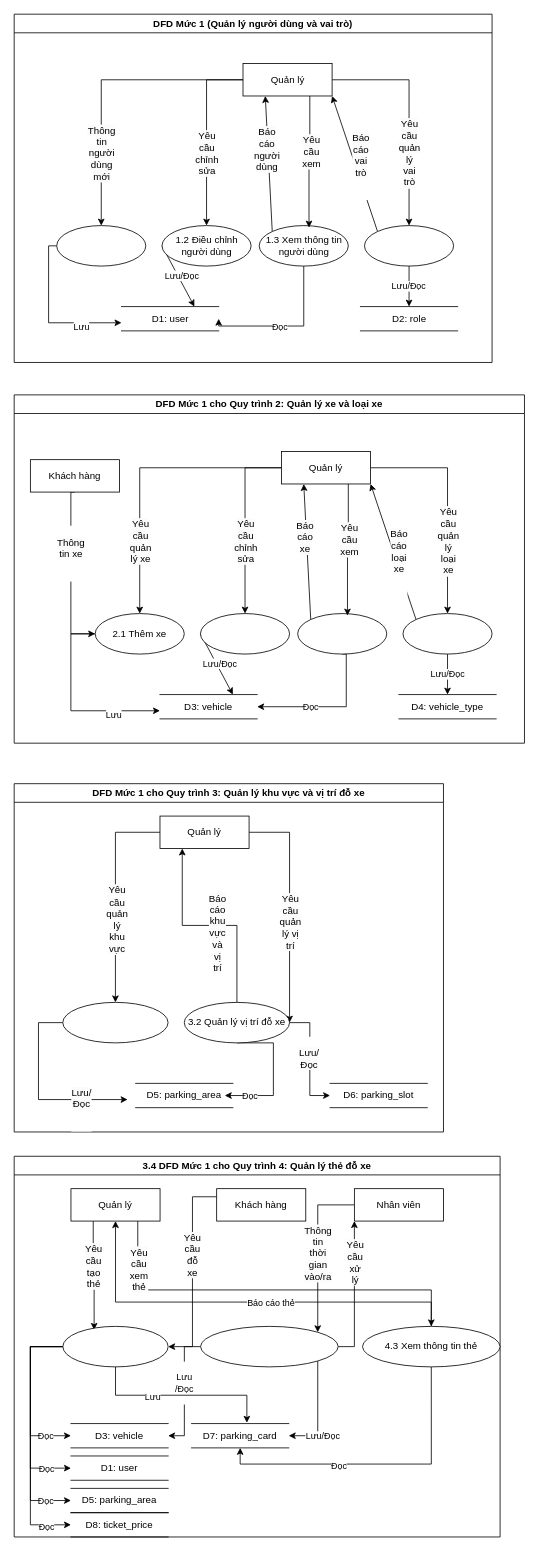
The diagram is 539 pixels wide and 1551 high, and some of its shapes have lost their labels. The shapes that lost their labels are listed below. From the top down, each one's centre as x and y in pixels, then its label:
the point at 101,245: 1.1 Thêm người dùng
the point at 409,245: 1.4 Quản lý vai trò
the point at 245,633: 2.2 Điều chỉnh xe
the point at 342,633: 2.3 Xem thông tin xe
the point at 447,633: 2.4 Quản lý loại xe
the point at 115,1022: 3.1 Quản lý khu vực
the point at 115,1346: 4.1 Tạo thẻ đỗ xe
the point at 269,1346: 4.2 Ghi nhận thời gian vào/ra
